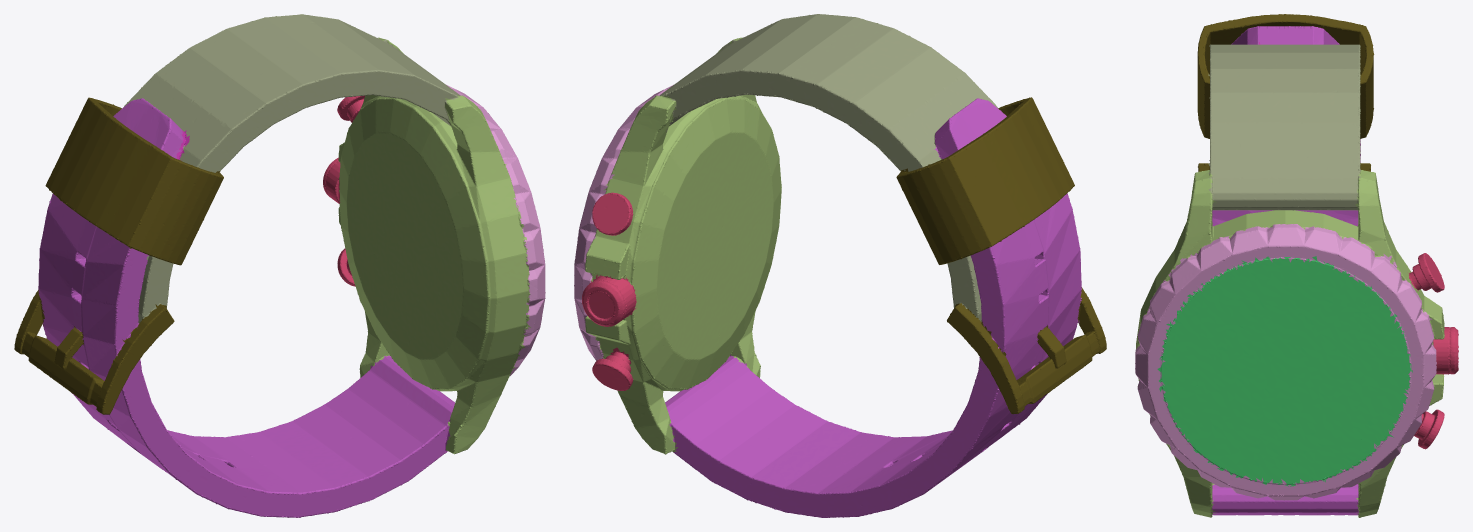
3 views of the same model, side by side, from view 1: azimuth 30°, elevation 25°; view 2: azimuth 150°, elevation 25°; view 3: azimuth 270°, elevation 25° (orthographic). The views are drawn at different scales.
Parts seen in each view (by area): view 1: world; view 2: world; view 3: world.
Part boxes in pixels (x1,y1,x2,y2): world: [14, 14, 545, 517]; world: [574, 14, 1106, 517]; world: [1135, 14, 1458, 517].
Bounding box in the file's own units: 1.91 × 1.91 × 1.31.
